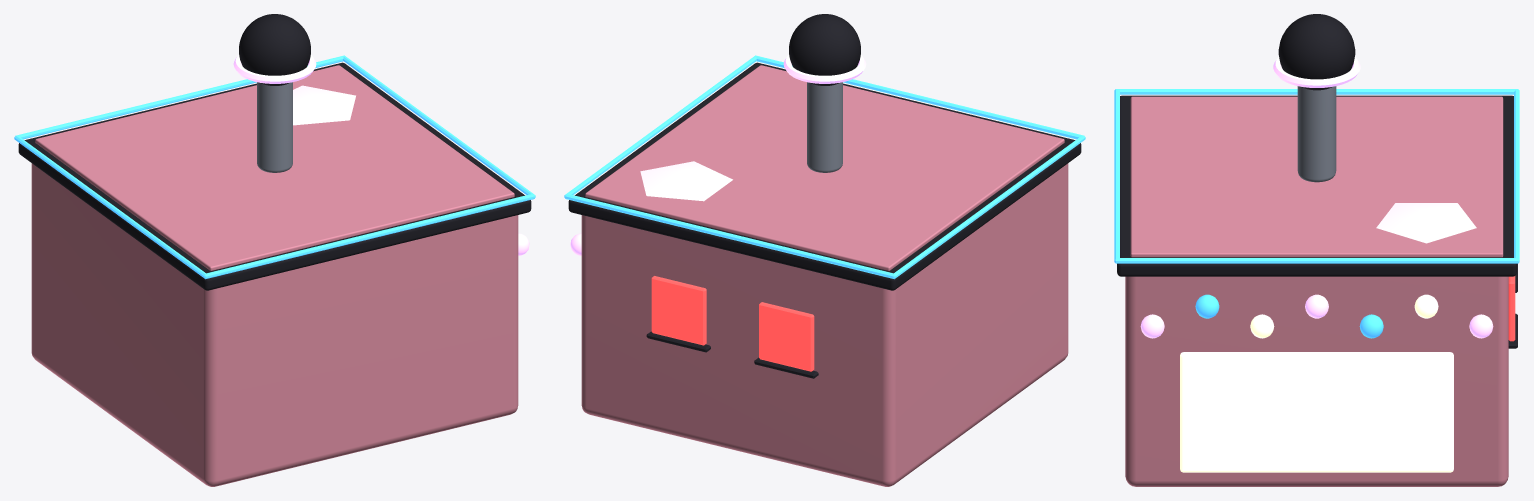
Rendered from karaoke.glb.
The picture shows the model from 3 angles, left to right: view 1: azimuth 30°, elevation 25°; view 2: azimuth 150°, elevation 25°; view 3: azimuth 270°, elevation 25°; orthographic projection. The views are drawn at different scales.
Visible parts, largest first — view 1: karaoke; view 2: karaoke; view 3: karaoke.
Part boxes in pixels (<box>): karaoke: <box>14,14,535,486</box>; karaoke: <box>564,14,1085,486</box>; karaoke: <box>1114,14,1519,486</box>.
Size of the model in its own units: 7.62 by 7.9 by 7.4.
1 material, 1 textured.
